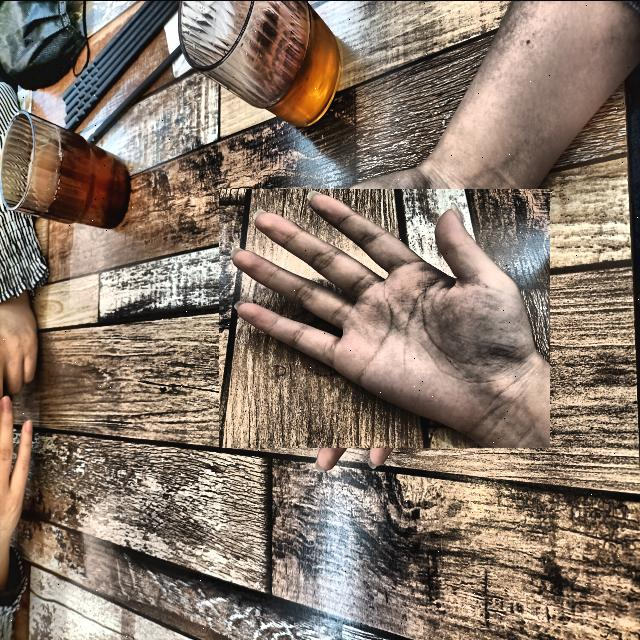not-gloved: (237, 170, 533, 466)
